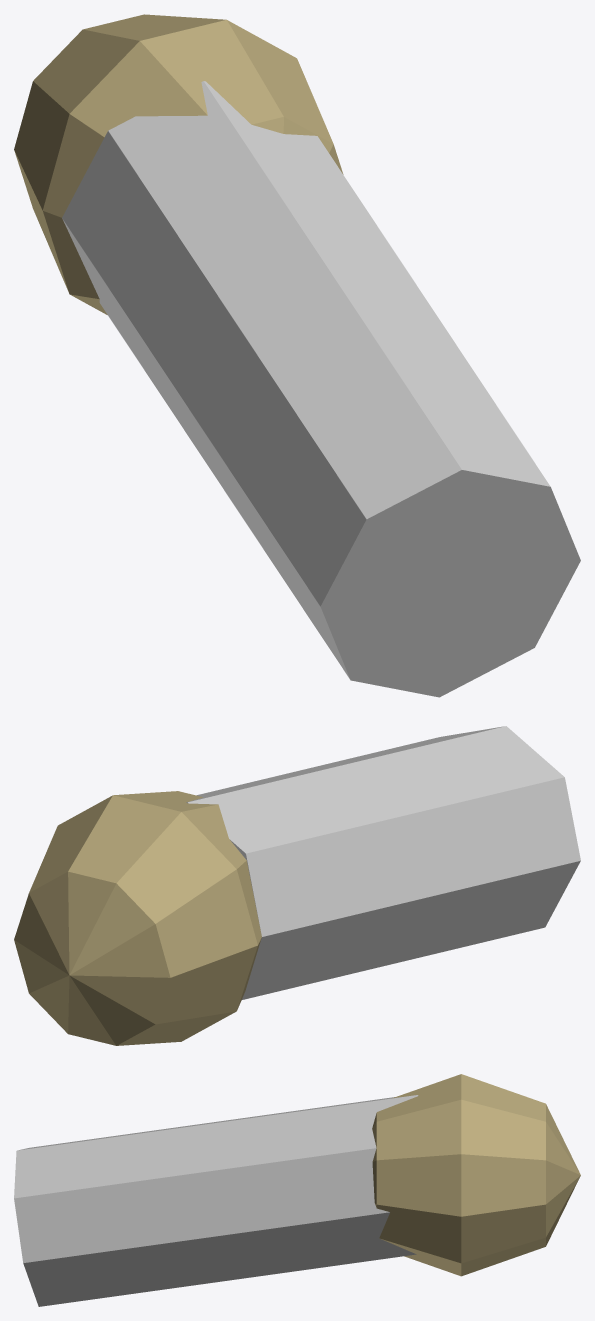
The model's file is Resident2LeftArm.obj.
3 views of the same model, one above another, from view 1: azimuth 30°, elevation 25°; view 2: azimuth 150°, elevation 25°; view 3: azimuth 270°, elevation 25° (orthographic). The views are drawn at different scales.
Parts seen in each view (by area): view 1: Resident2LeftArm; view 2: Resident2LeftArm; view 3: Resident2LeftArm.
Boxes of the visible parts, x1,y1,x2,y2 form: Resident2LeftArm: [14, 14, 580, 697]; Resident2LeftArm: [14, 726, 580, 1045]; Resident2LeftArm: [14, 1074, 580, 1306].
Bounding box in the file's own units: 28.42 × 31.2 × 66.34.
